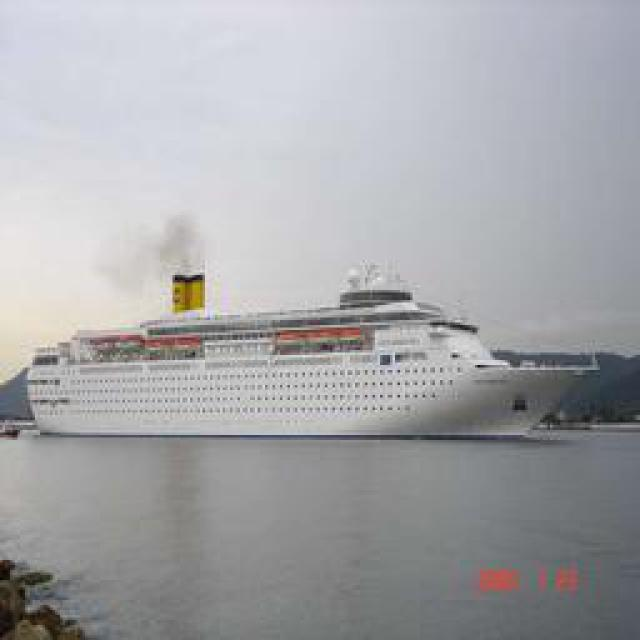Ship: (27, 271, 600, 441)
